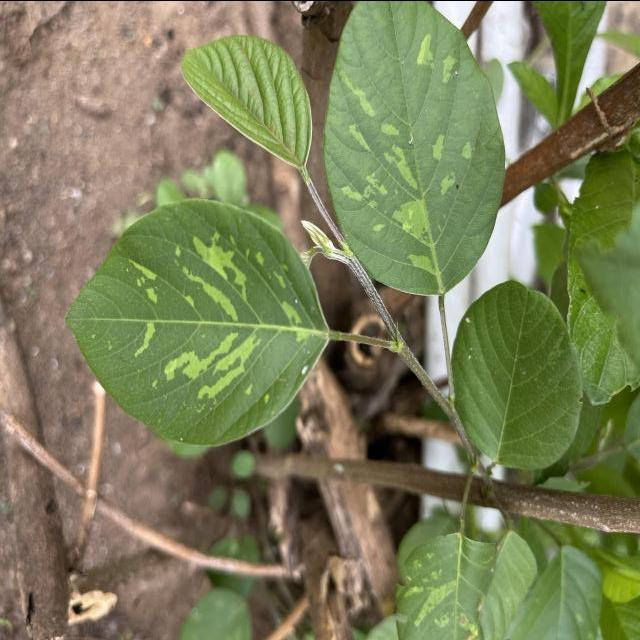Desmodium gangeticum: (61, 193, 330, 452), (320, 0, 512, 299)
